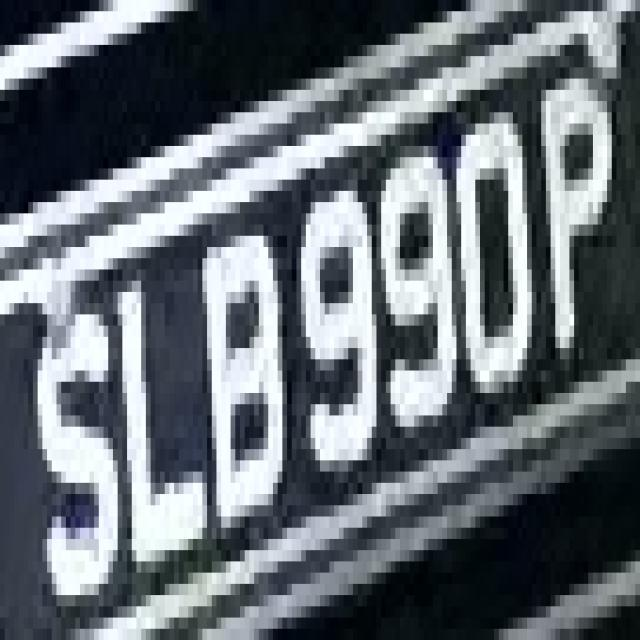0: (447, 78, 537, 438)
9: (278, 135, 381, 505), (372, 112, 461, 460)
B: (198, 202, 287, 573)
L: (108, 236, 212, 595)
P: (522, 45, 622, 370)
S: (23, 303, 122, 606)
